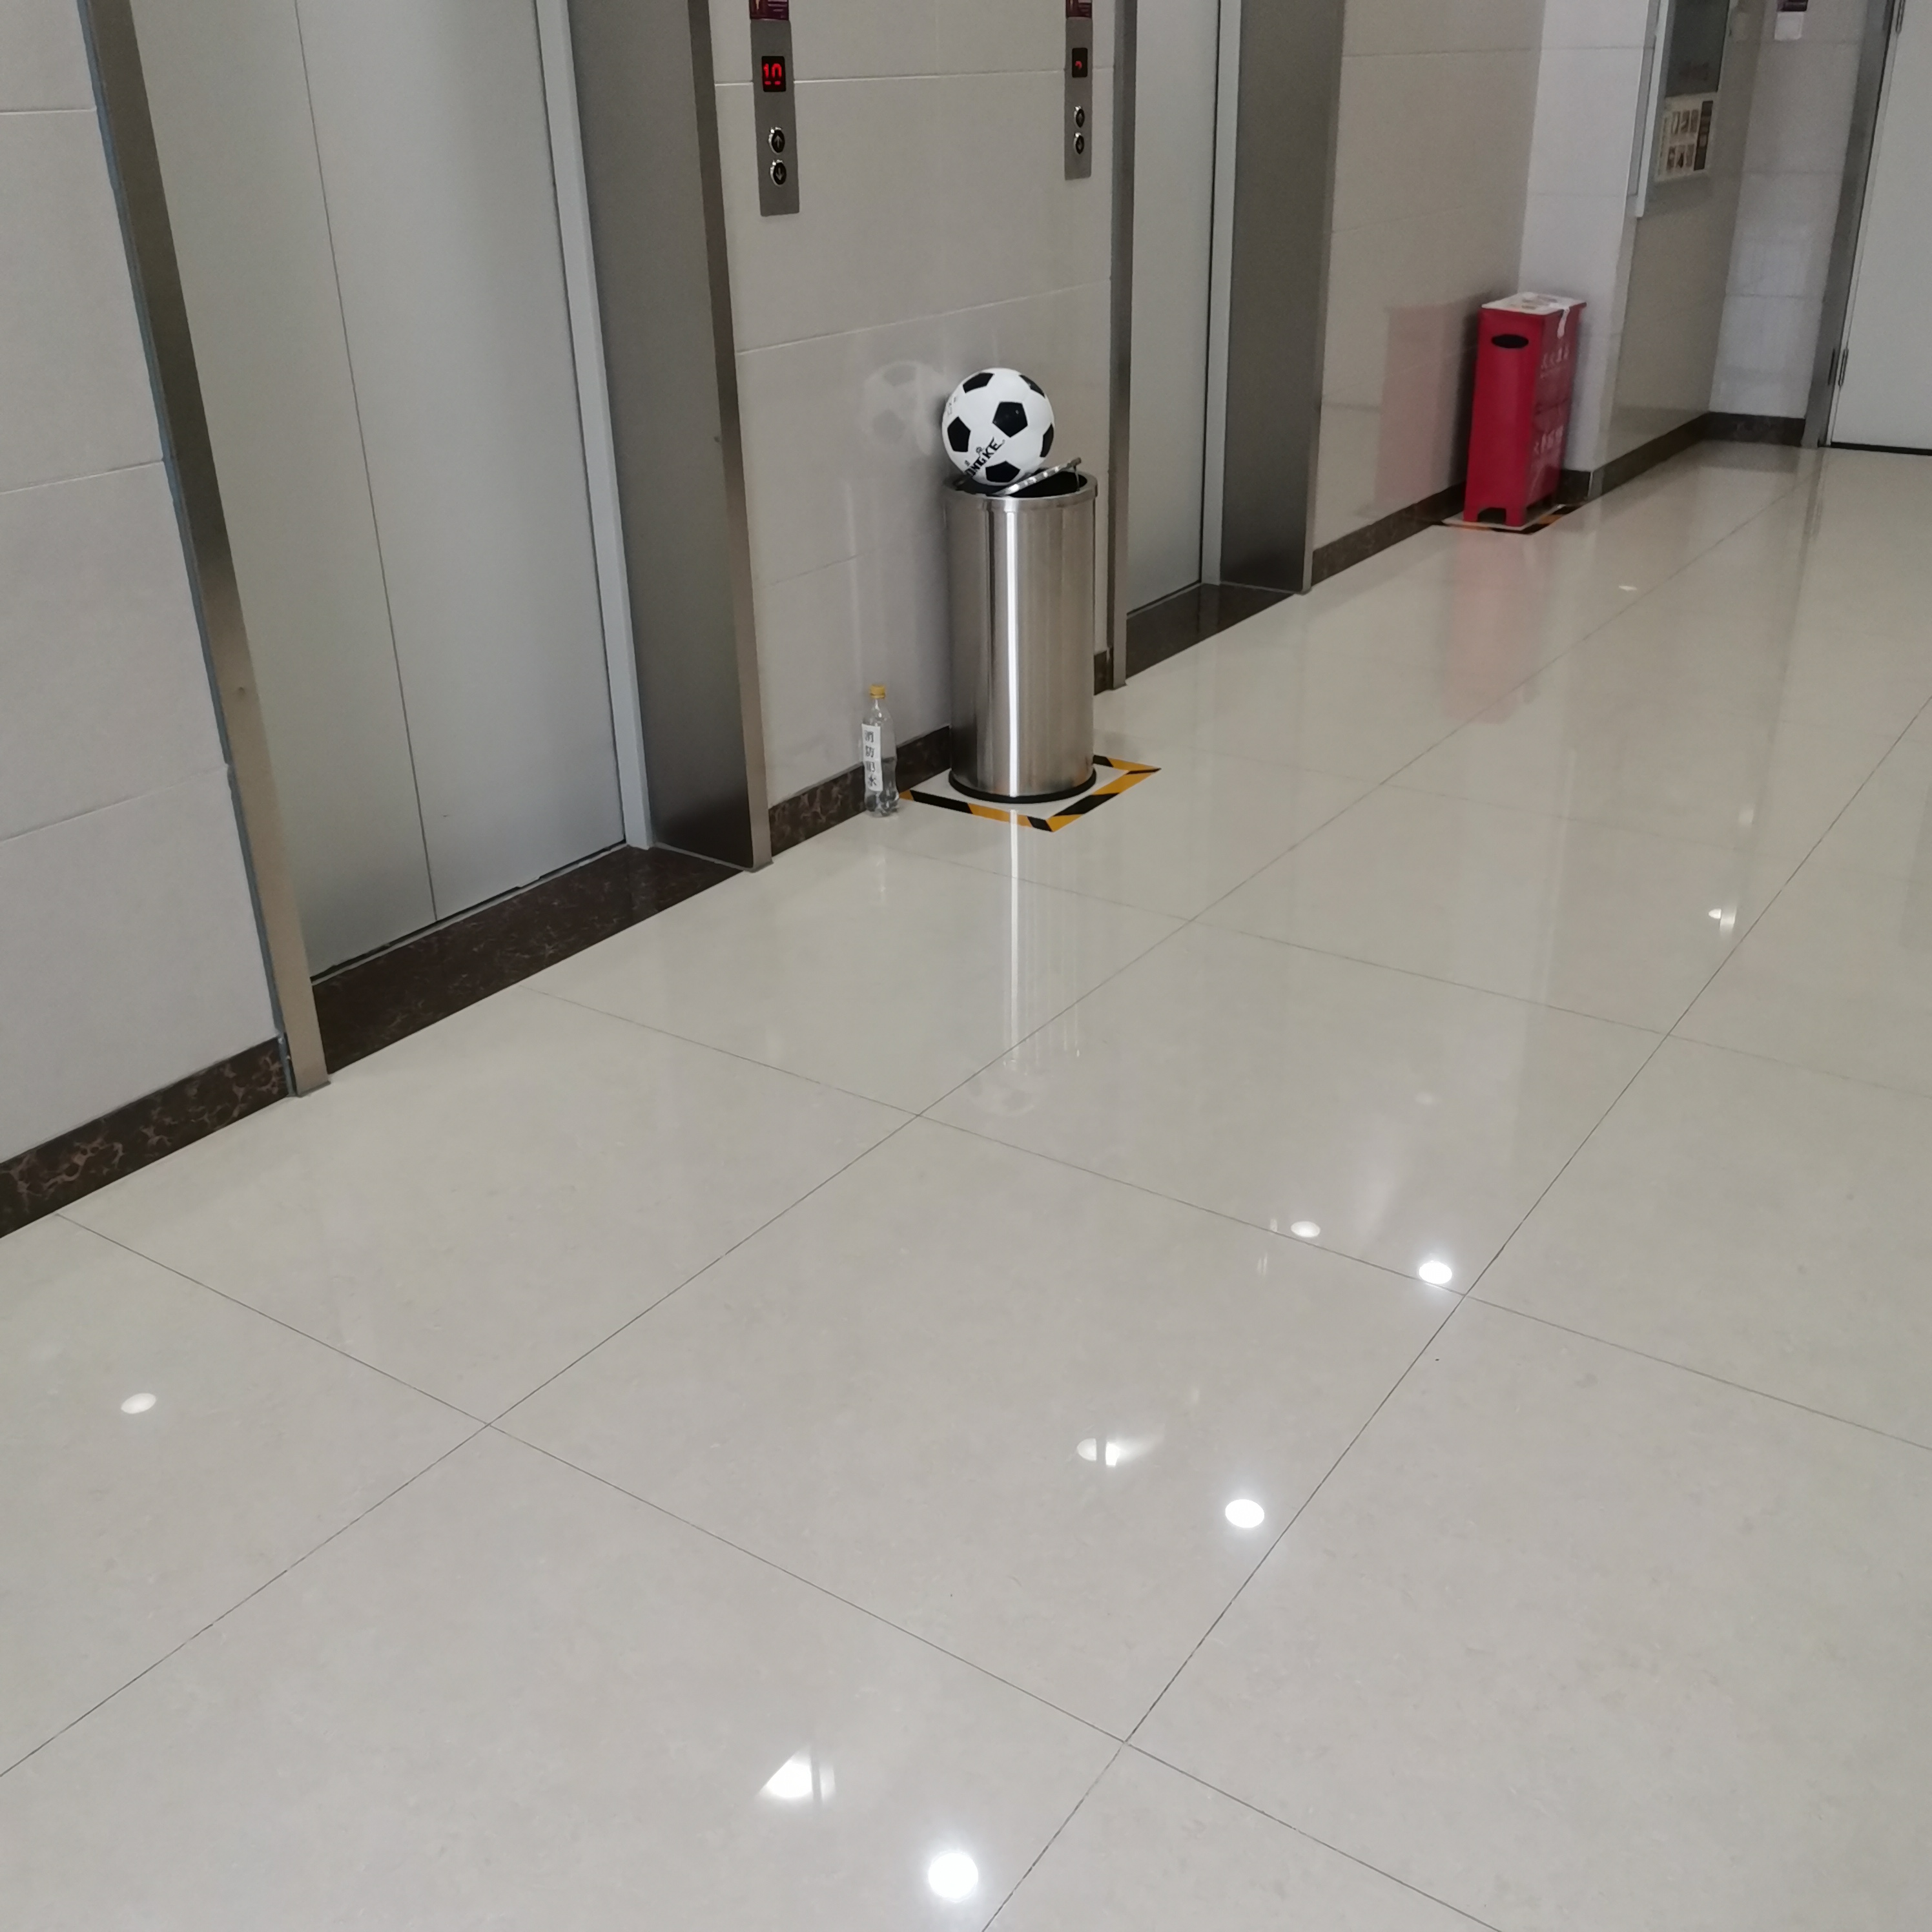football: (941, 366, 1056, 488)
